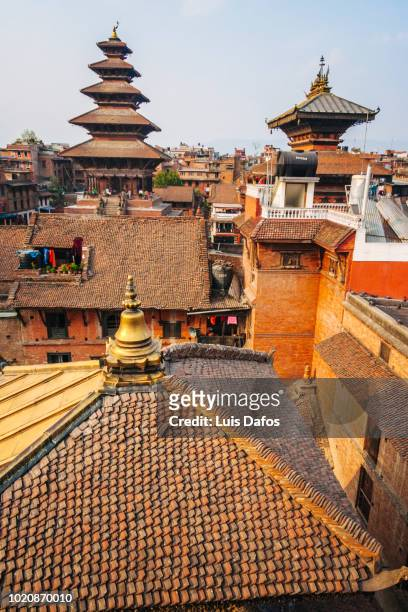nyathapola: (34, 1, 200, 215)
